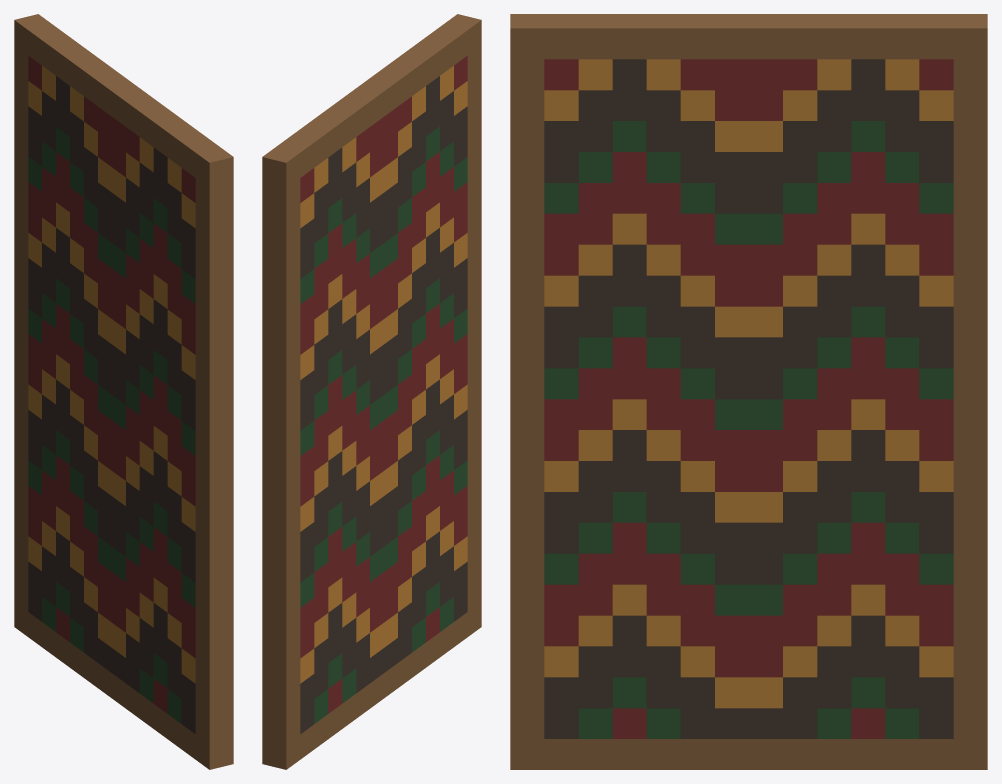
File: char-7-shield_hvy_2_sh_color.obj
The picture shows the model from 3 angles, left to right: view 1: azimuth 30°, elevation 25°; view 2: azimuth 150°, elevation 25°; view 3: azimuth 270°, elevation 25°; orthographic projection. The views are drawn at different scales.
Visible parts, largest first — view 1: shield_hvy_2_sh_color; view 2: shield_hvy_2_sh_color; view 3: shield_hvy_2_sh_color.
Part boxes in pixels (x1,y1,x2,y2): shield_hvy_2_sh_color: (14,14,233,769); shield_hvy_2_sh_color: (262,14,481,769); shield_hvy_2_sh_color: (510,14,987,769).
Bounding box in the file's own units: 0.1 × 2.4 × 1.4.
Materials: 1 (1 with a texture image).
